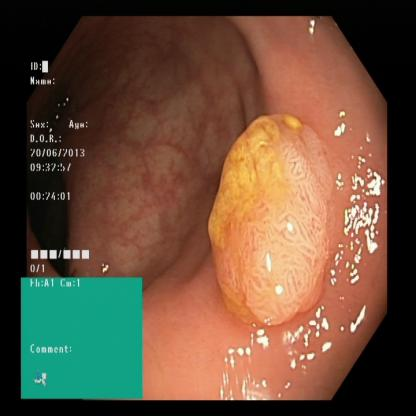Labels: (27, 56, 102, 278), (21, 278, 144, 401)
Polyps: (213, 103, 336, 319)
